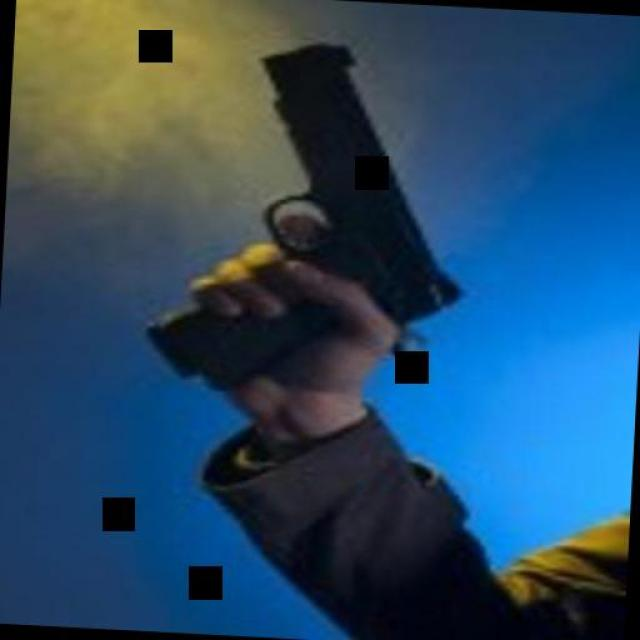gun: (99, 18, 488, 386)
